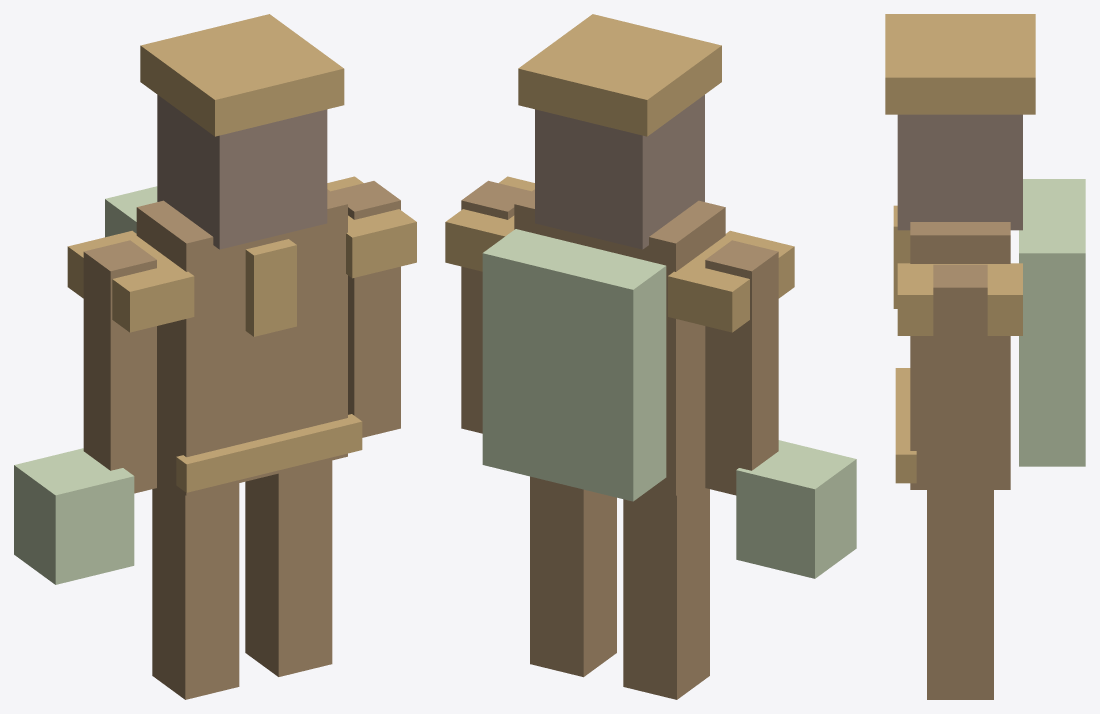
File: 13_astra_starfall_operator_under_server.glb
3 views of the same model, side by side, from view 1: azimuth 30°, elevation 25°; view 2: azimuth 150°, elevation 25°; view 3: azimuth 270°, elevation 25° (orthographic).
Visible parts, largest first — view 1: Astra Starfall, Operator under Server; view 2: Astra Starfall, Operator under Server; view 3: Astra Starfall, Operator under Server.
Part boxes in pixels (x1=…): Astra Starfall, Operator under Server: x1=14, y1=14, x2=416, y2=699; Astra Starfall, Operator under Server: x1=445, y1=14, x2=856, y2=699; Astra Starfall, Operator under Server: x1=885, y1=14, x2=1085, y2=699.
Bounding box in the file's own units: 1.03 × 1.69 × 0.4976.
